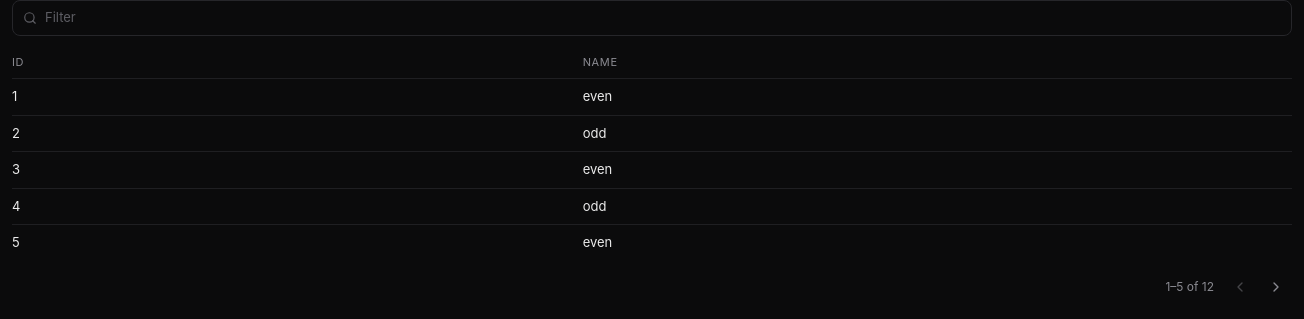
Test case: DiagTable › filters rows by searchText and resets to the first page
Click the button named "Next page". click: (1276, 286)
box: x1=1260 y1=270 x2=1292 y2=302
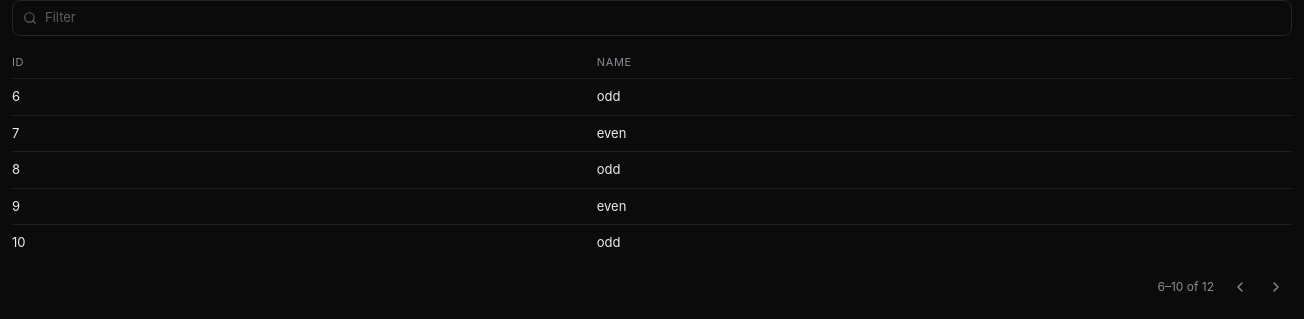
Type "ODD" into the search field named "Filter rows". click: (663, 18)
box: x1=45 y1=8 x2=1281 y2=28
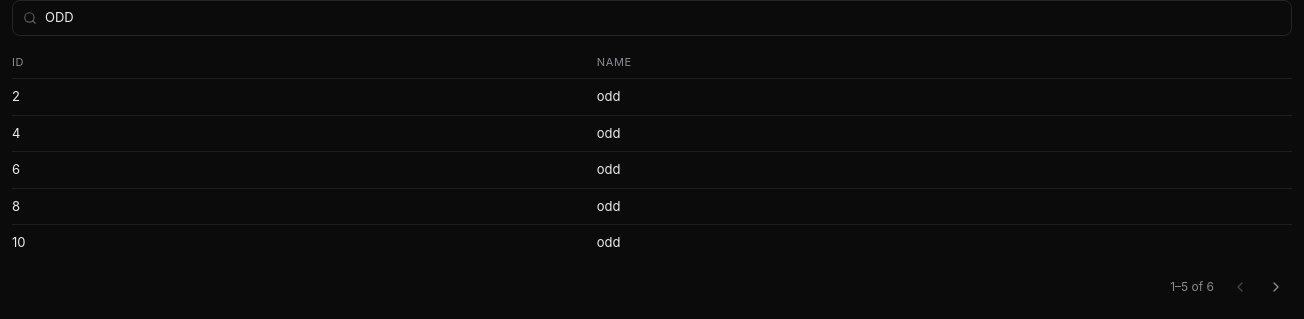
Expected: the text "1–5 of 6" is shown, x1=1170 y1=278 x2=1214 y2=294
Replace the text in the search field named "Filter rows" with "zzz". click: (663, 18)
box: x1=45 y1=8 x2=1281 y2=28
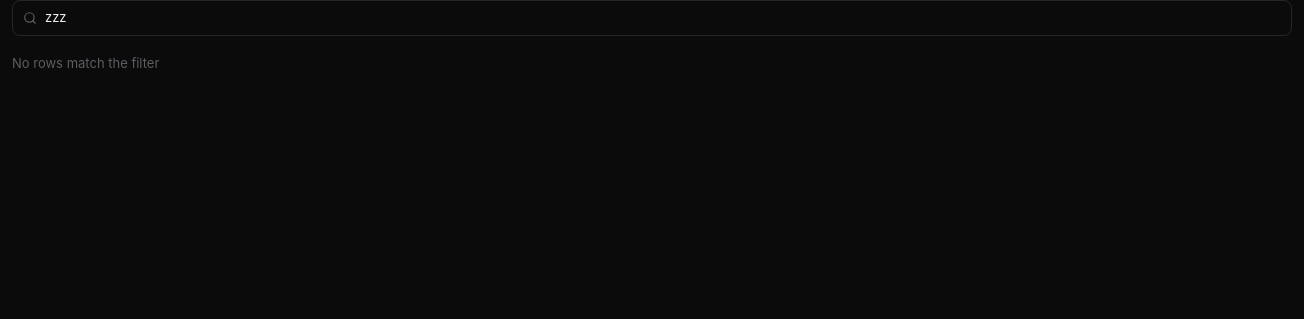
Expected: the text "No rows match the filter" is shown, x1=12 y1=54 x2=159 y2=70
